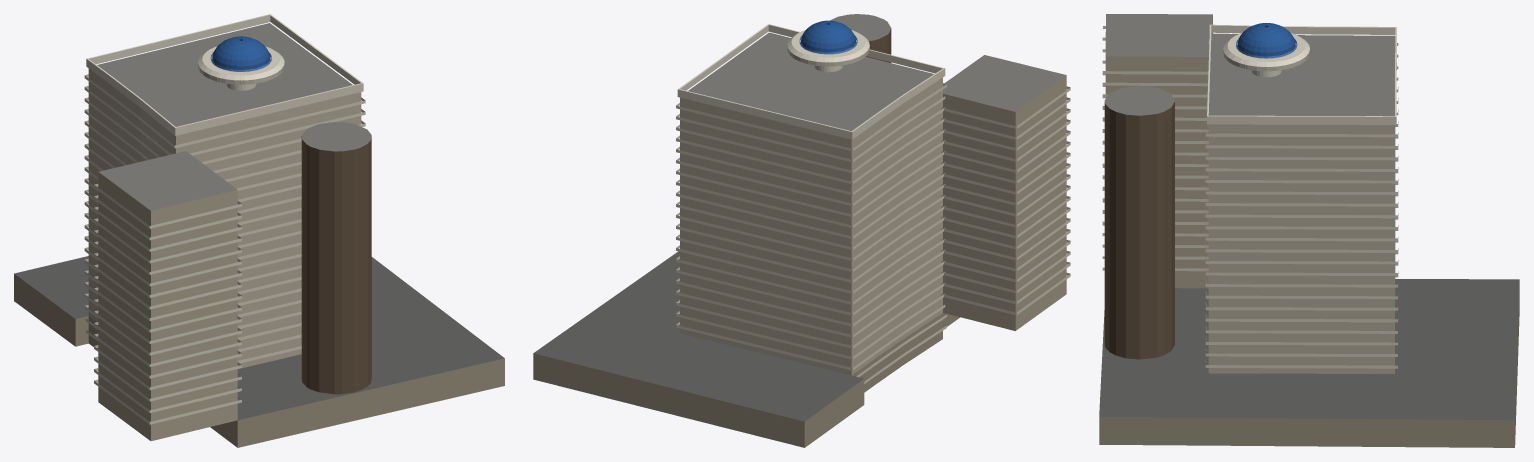
File: hyatt-regency-atlanta.glb
3 renders of one model, left to right at view 1: azimuth 30°, elevation 25°; view 2: azimuth 150°, elevation 25°; view 3: azimuth 270°, elevation 25°, orthographic. The views are drawn at different scales.
Parts seen in each view (by area): view 1: lod0_bld_wall, lod1_lm_stone, lod0_lm_stone, lod0_bld_roof, lod0_lm_glass; view 2: lod0_bld_wall, lod0_lm_stone, lod1_lm_stone, lod0_bld_roof, lod0_lm_glass; view 3: lod0_bld_wall, lod1_lm_stone, lod0_lm_stone, lod0_bld_roof, lod0_lm_glass.
Part boxes in pixels (box(x1,y1,x2,y2)): lod0_bld_wall: box(14, 68, 504, 447); lod1_lm_stone: box(14, 14, 504, 419); lod0_lm_stone: box(84, 15, 365, 424); lod0_bld_roof: box(97, 23, 352, 126); lod0_lm_glass: box(212, 36, 270, 69); lod0_bld_wall: box(533, 28, 1066, 447); lod0_lm_stone: box(676, 25, 1070, 383); lod1_lm_stone: box(533, 14, 1066, 421); lod0_bld_roof: box(688, 32, 933, 131); lod0_lm_glass: box(801, 20, 855, 52); lod0_bld_wall: box(1099, 15, 1519, 447); lod1_lm_stone: box(1099, 14, 1519, 420); lod0_lm_stone: box(1102, 26, 1398, 368); lod0_bld_roof: box(1209, 33, 1395, 116); lod0_lm_glass: box(1237, 23, 1295, 56).
Bounding box in the file's own units: 123 × 107 × 124.
